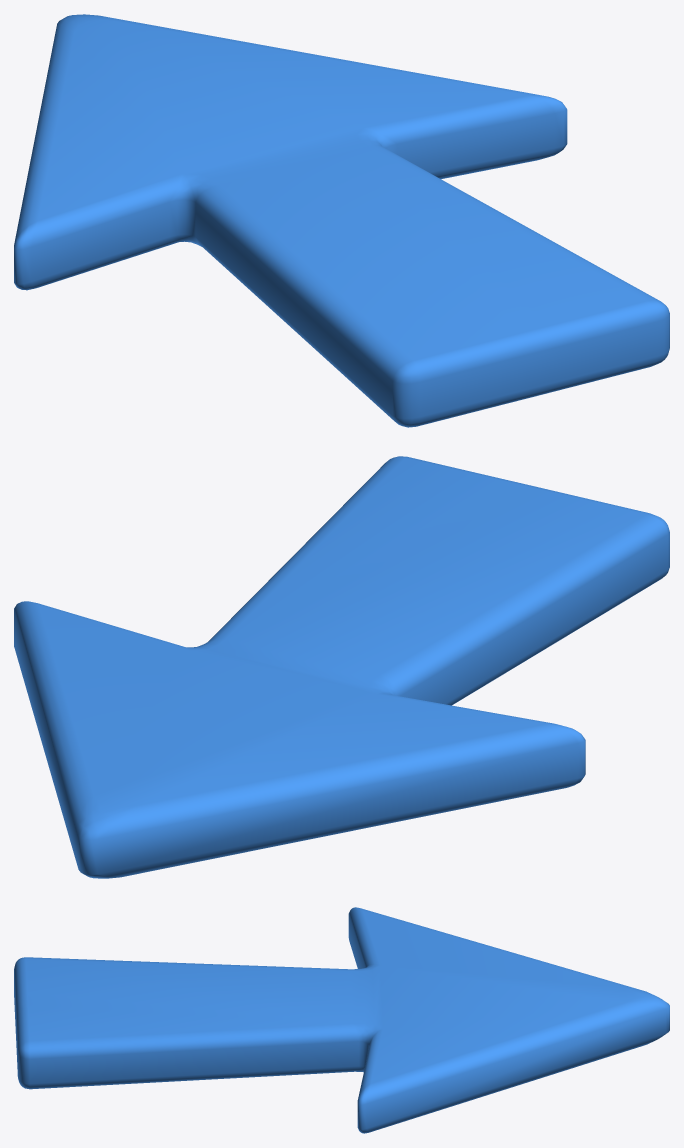
The model's file is direction_arrow.glb.
3 views of the same model, one above another, from view 1: azimuth 30°, elevation 25°; view 2: azimuth 150°, elevation 25°; view 3: azimuth 270°, elevation 25° (orthographic). The views are drawn at different scales.
Visible parts, largest first — view 1: Arrow; view 2: Arrow; view 3: Arrow.
Boxes of the visible parts, x1,y1,x2,y2 form: Arrow: (14,14,669,427); Arrow: (14,456,669,878); Arrow: (14,907,669,1133).
Size of the model in its own units: 2.11 by 0.2343 by 3.02.
